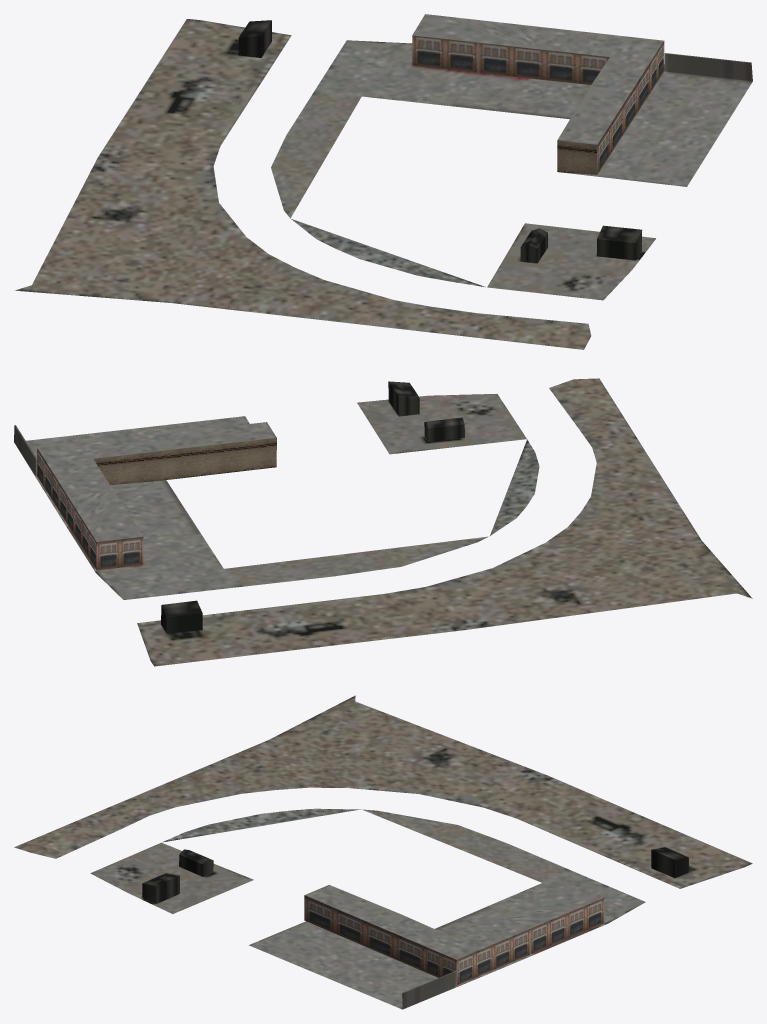
Rendered from lodcomp1_las2.obj.
3 views of the same model, one above another, from view 1: azimuth 30°, elevation 25°; view 2: azimuth 150°, elevation 25°; view 3: azimuth 270°, elevation 25° (orthographic). The views are drawn at different scales.
Parts seen in each view (by area): view 1: LODCOMP1_las2; view 2: LODCOMP1_las2; view 3: LODCOMP1_las2.
Boxes of the visible parts, bbox=[...] form: LODCOMP1_las2: bbox=[15, 14, 752, 349]; LODCOMP1_las2: bbox=[14, 378, 752, 666]; LODCOMP1_las2: bbox=[14, 695, 752, 1009].
Size of the model in its own units: 155 by 6.6 by 153.
3 materials, 3 textured.
